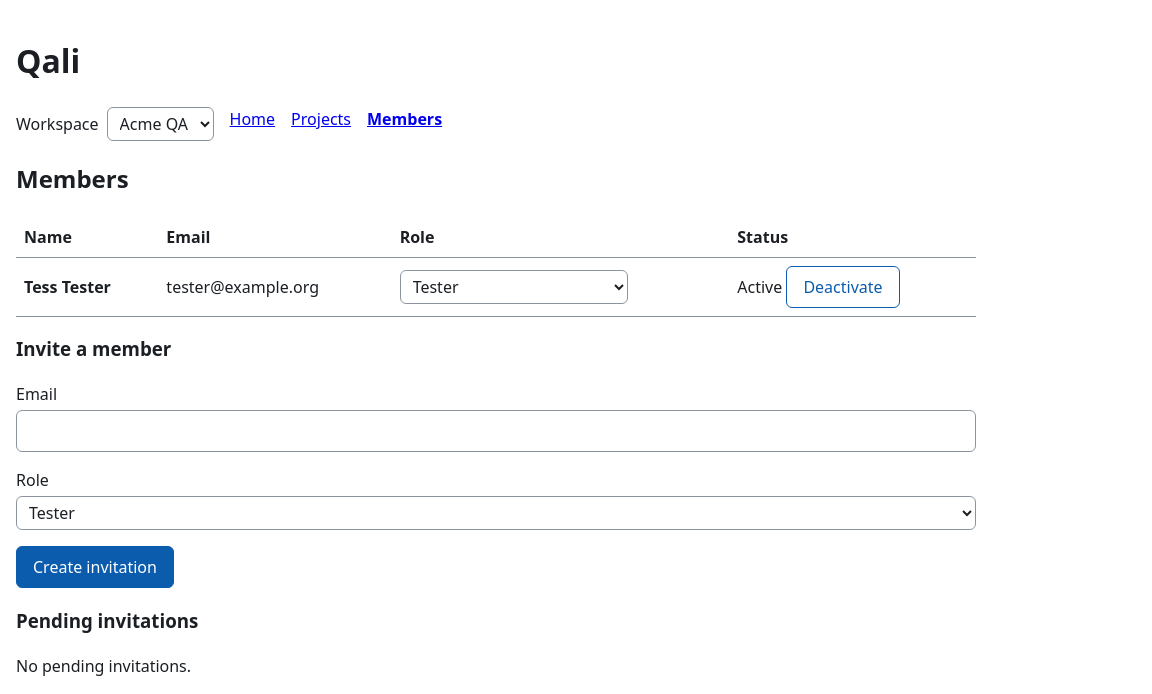
Test: member administration › changes a role with If-Match and steps up when recent MFA is required
Step 1. Select "QA lead" in the dropdown named "Role for Tess Tester" → (514, 287), box [400, 270, 628, 304]
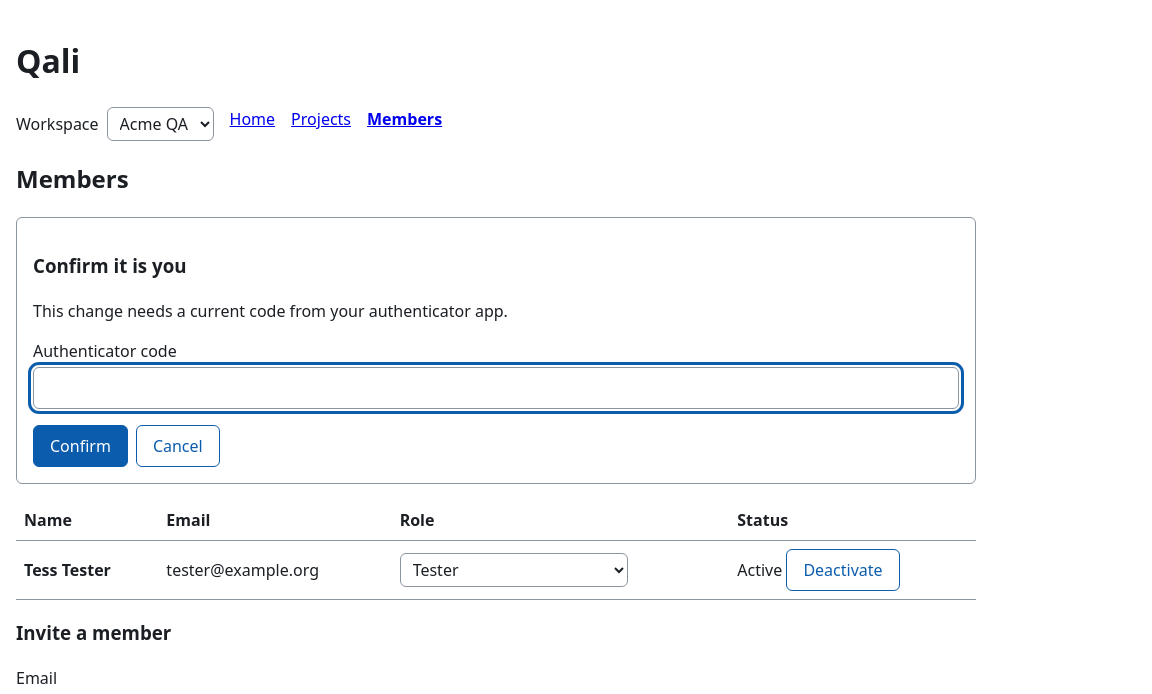
Check: the heading "Confirm it is you" is shown, box [33, 253, 186, 278]
Step 2. Click the button "Confirm" → click(80, 446), box [33, 425, 128, 467]
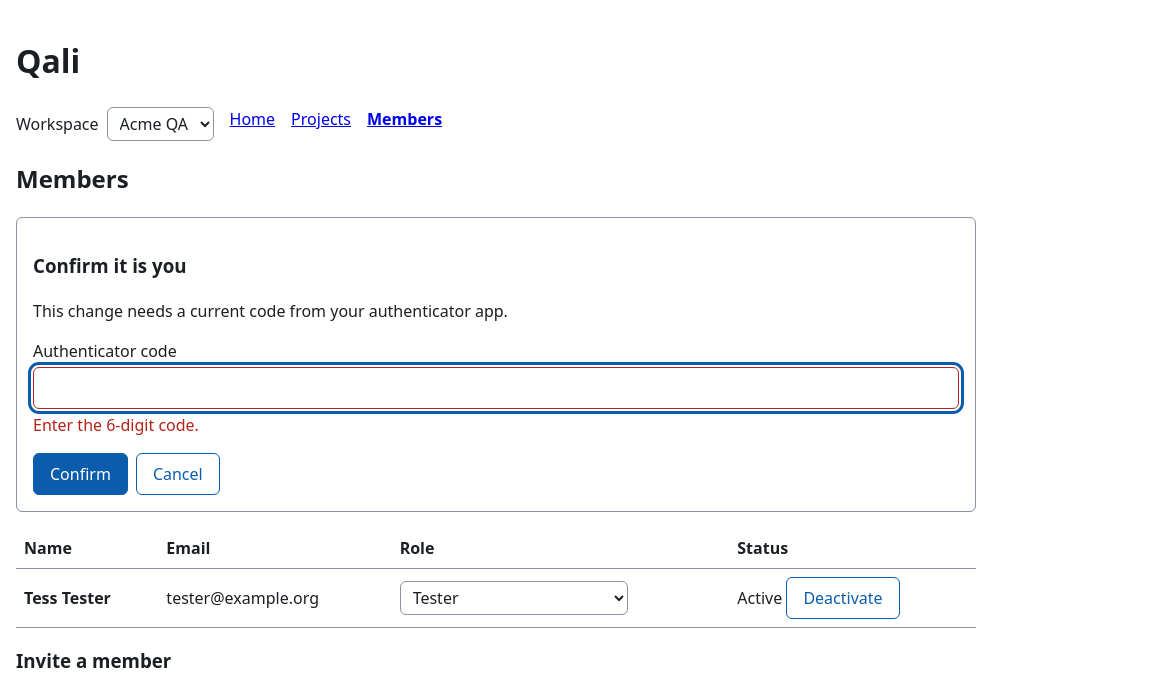
Check: the text "Enter the 6-digit code." is shown, box [33, 414, 199, 436]
Step 3. Type "123456" into the field labelled "Authenticator code" → (496, 388), box [33, 367, 959, 409]
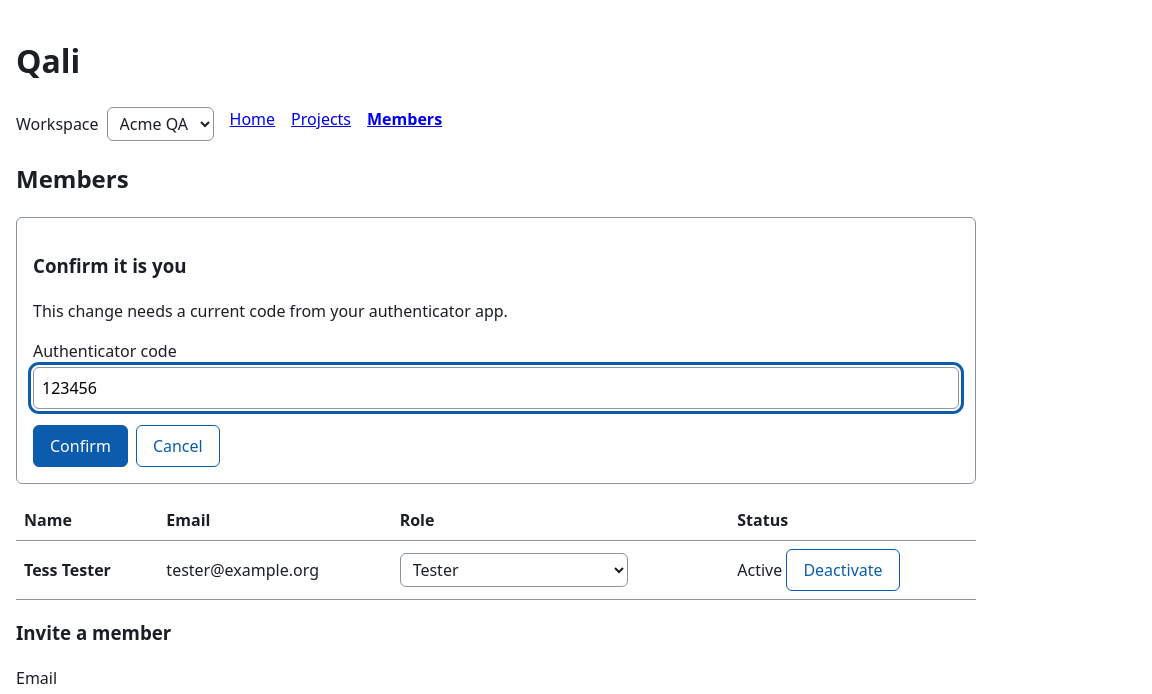
Step 4. Click the button "Confirm" → click(80, 446), box [33, 425, 128, 467]
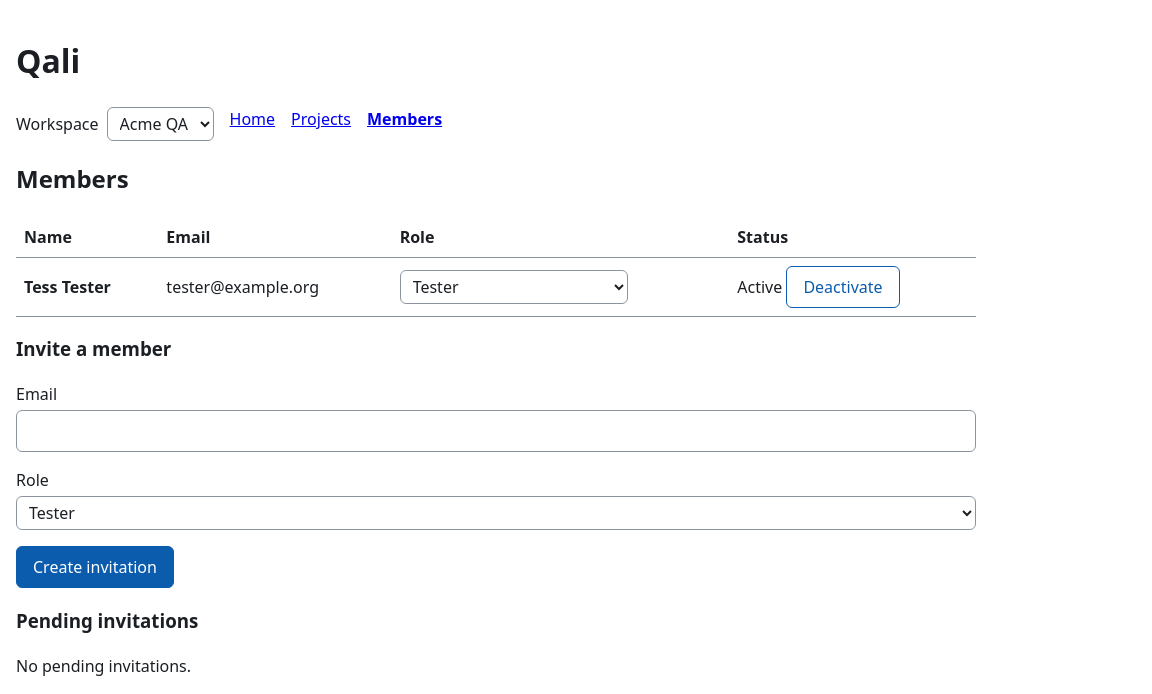
Check: the column heading "Tess Tester" is shown, box [16, 258, 158, 316]
Check: the heading "Confirm it is you" is gone
